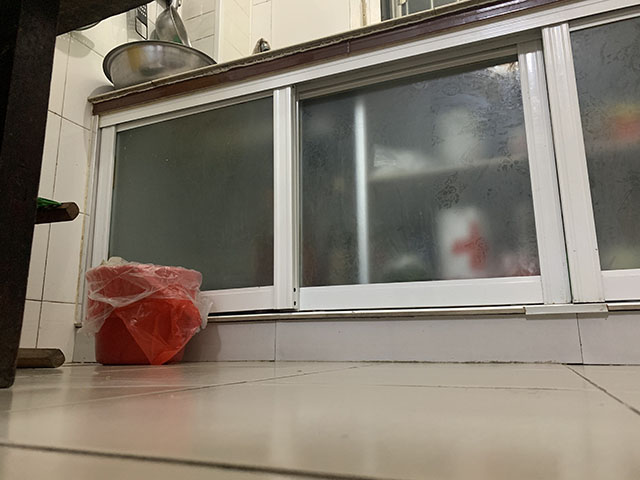cabinet: (71, 1, 640, 368)
trashcan: (82, 256, 213, 367)
